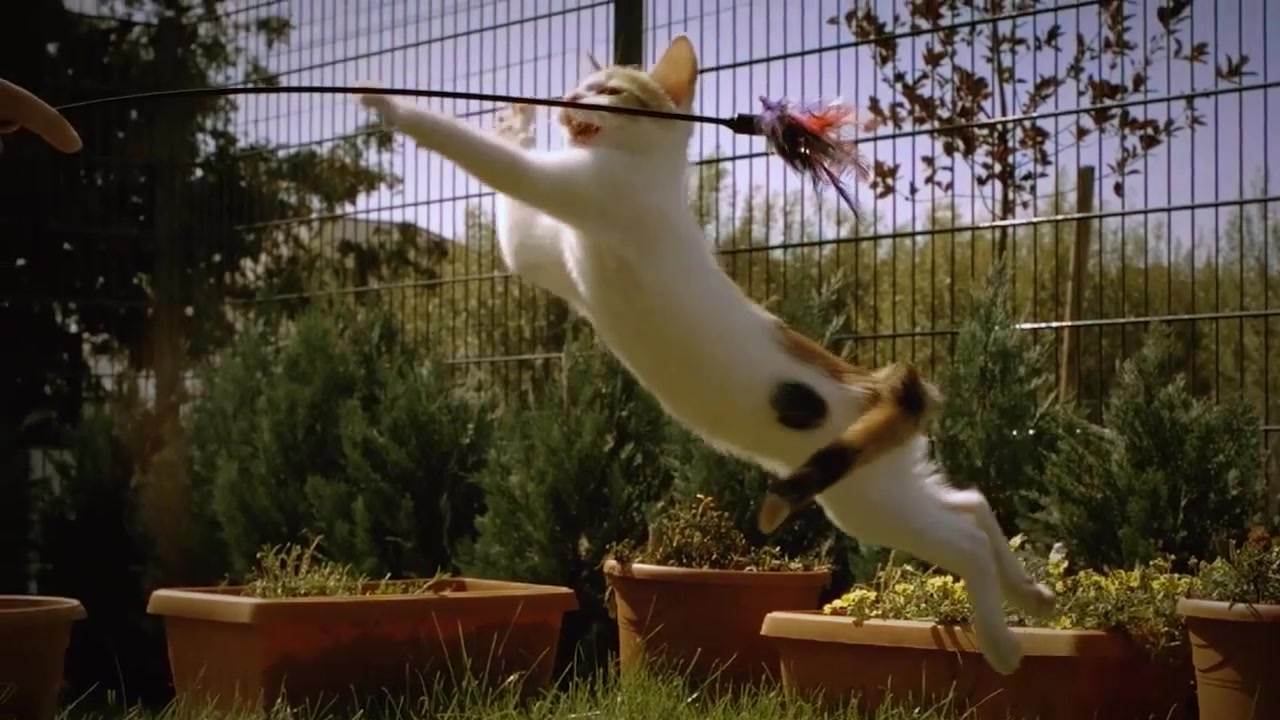cat: (355, 35, 1063, 677)
